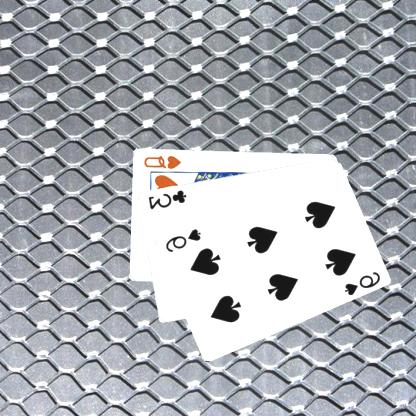3C: (147, 187, 189, 210)
6S: (343, 268, 383, 296), (164, 226, 204, 253)
QH: (142, 152, 184, 170)
